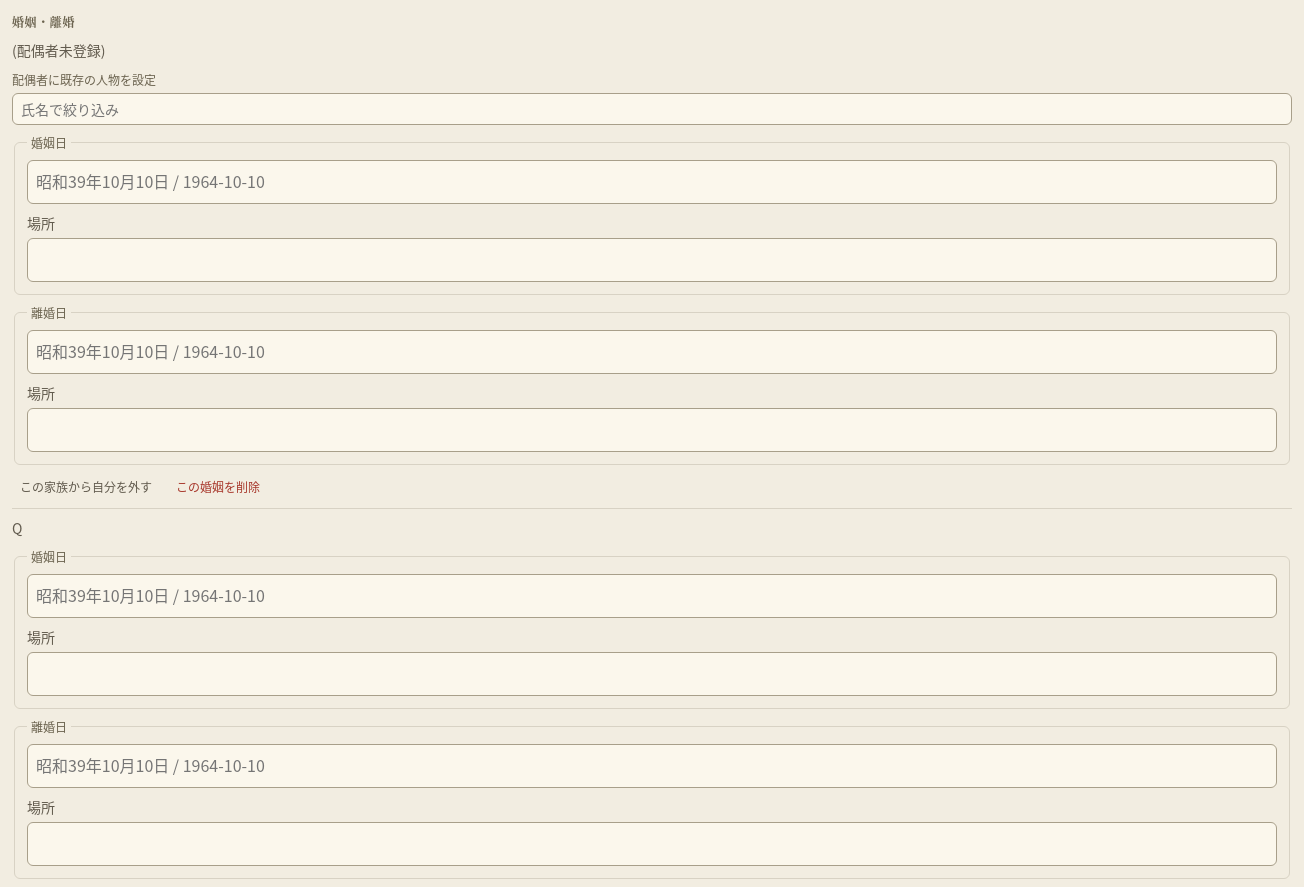
Scenario: FamilyEventEditor: 分裂した家族の統合 › 配偶者未登録の枠で既存の配偶者を選ぶと、2つの枠が1つにまとまる
Expected: the text "(配偶者未登録)" is shown, 12,40 -> 106,60
In the dropdown labelled "配偶者に既存の人物を設定": point(652, 109) 12,93 -> 1292,125, type "Q"
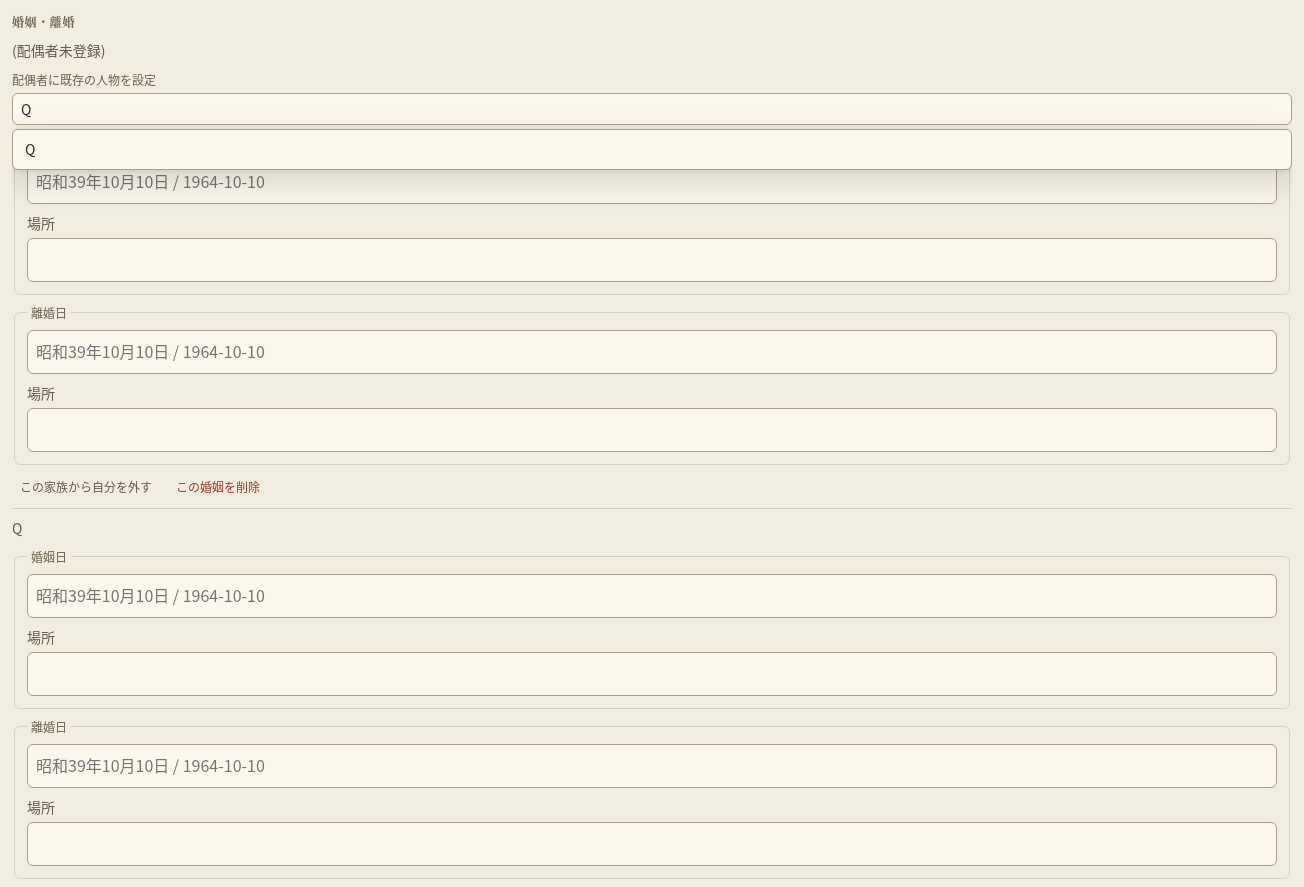
Click the option "Q": point(30, 149) 25,139 -> 35,159
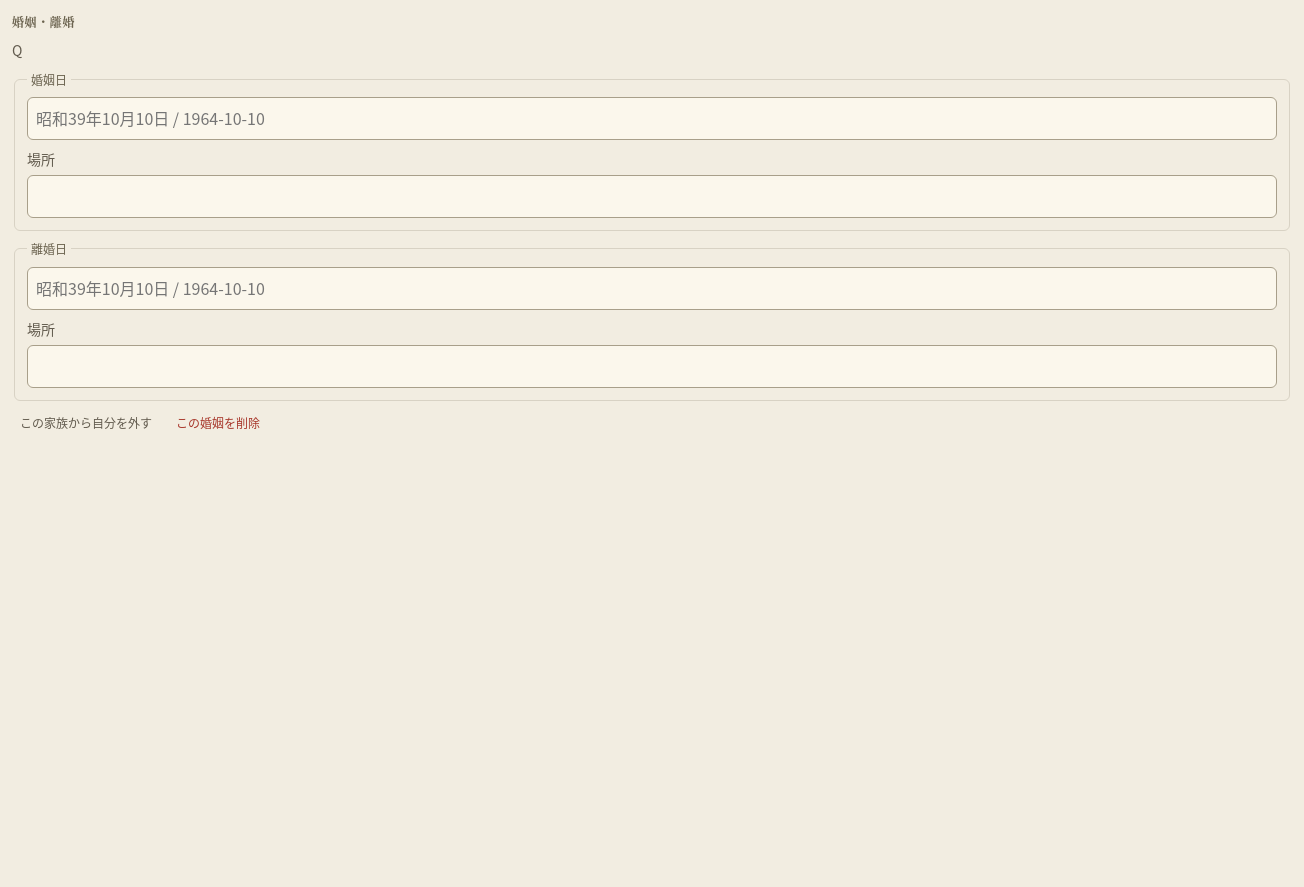
Expected: the text "(配偶者未登録)" is gone
